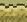sand: (1, 1, 27, 22)
